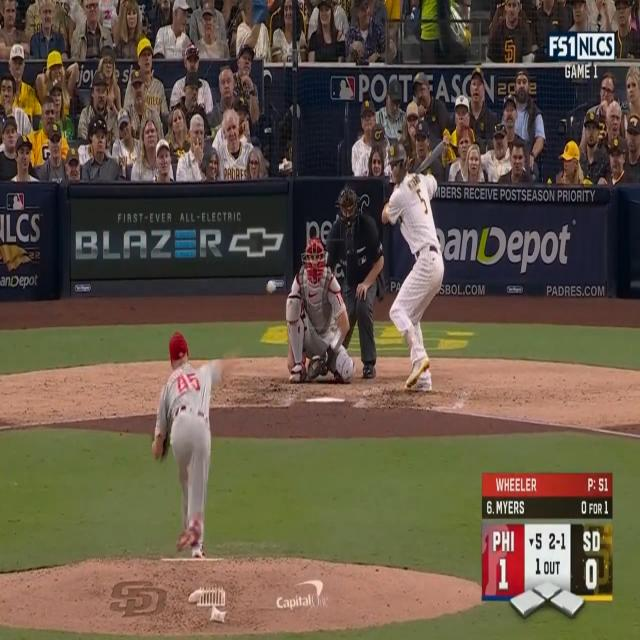baseball: (266, 280, 276, 294)
